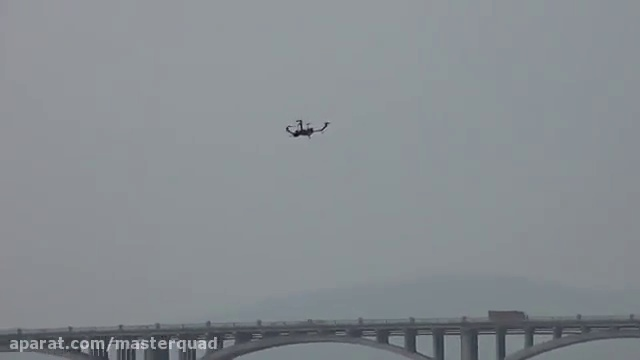drone_other: (282, 116, 332, 142)
